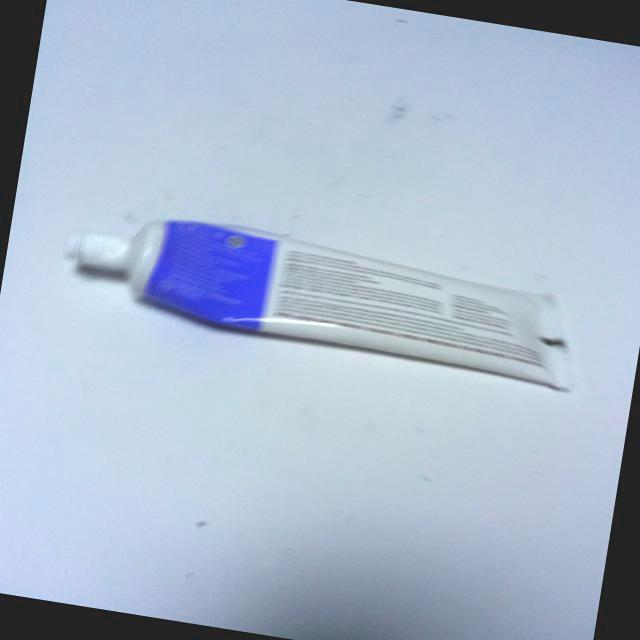plastic: (32, 190, 624, 436)
